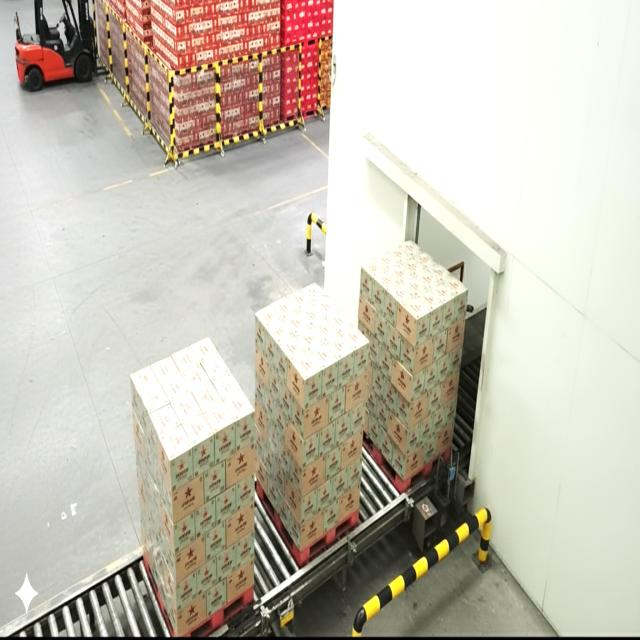pallet: (126, 328, 260, 640), (254, 279, 370, 562), (357, 232, 461, 509)
